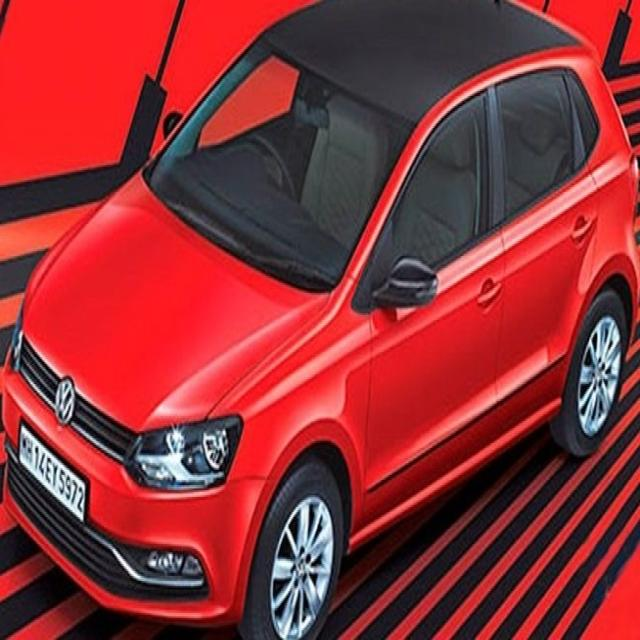number_plate: (18, 418, 91, 527)
